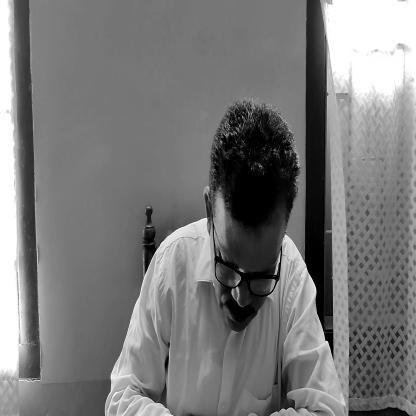Normal: (206, 84, 298, 338)
